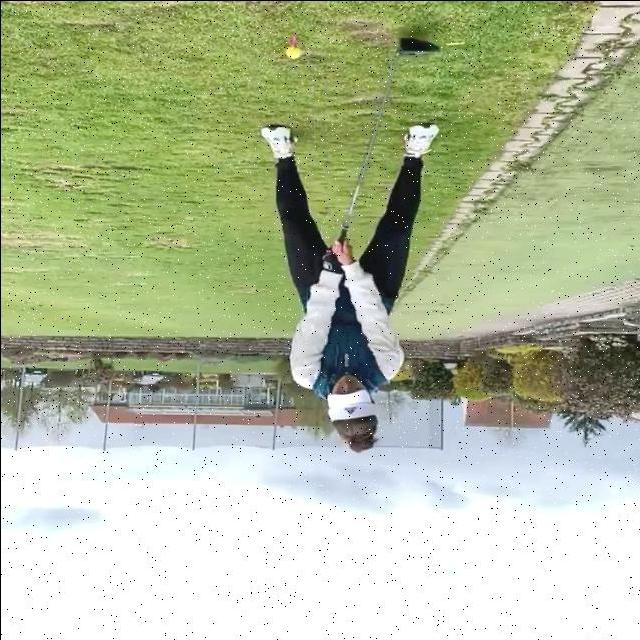ClubHandle: (337, 38, 438, 248)
ClubHead: (396, 36, 436, 56)
GolfBall: (283, 46, 301, 59)
